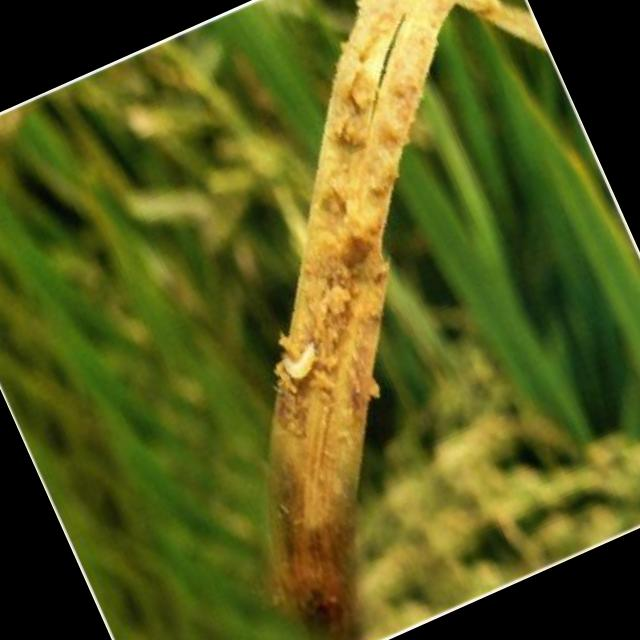whorl-maggot: (264, 326, 342, 400)
